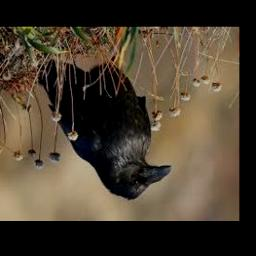Crow: (38, 58, 171, 201)
